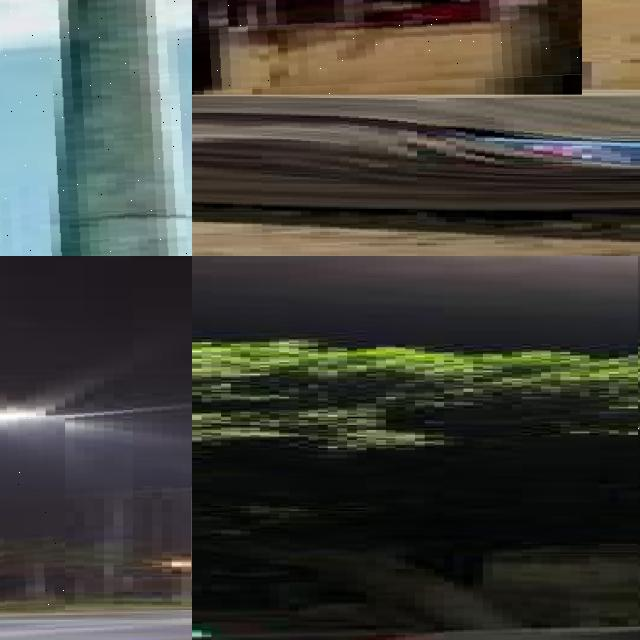street light: (0, 0, 192, 256), (192, 0, 582, 94), (0, 416, 65, 611)
